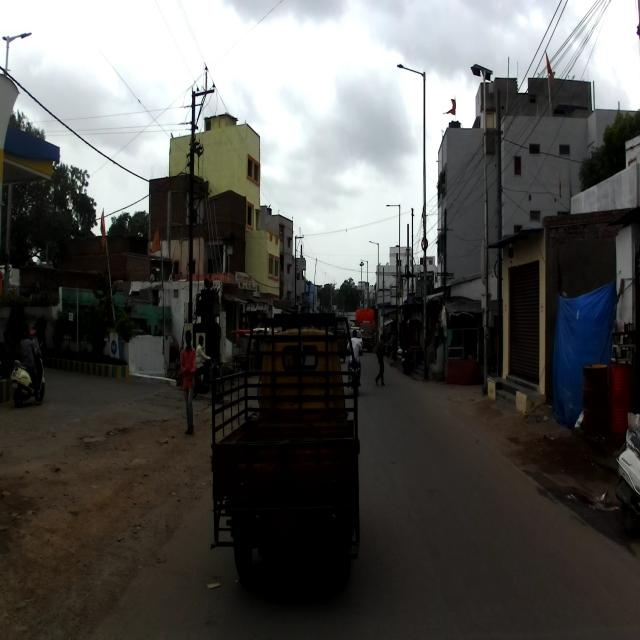autorickshaw: (208, 308, 362, 598)
scooter: (10, 340, 46, 408)
